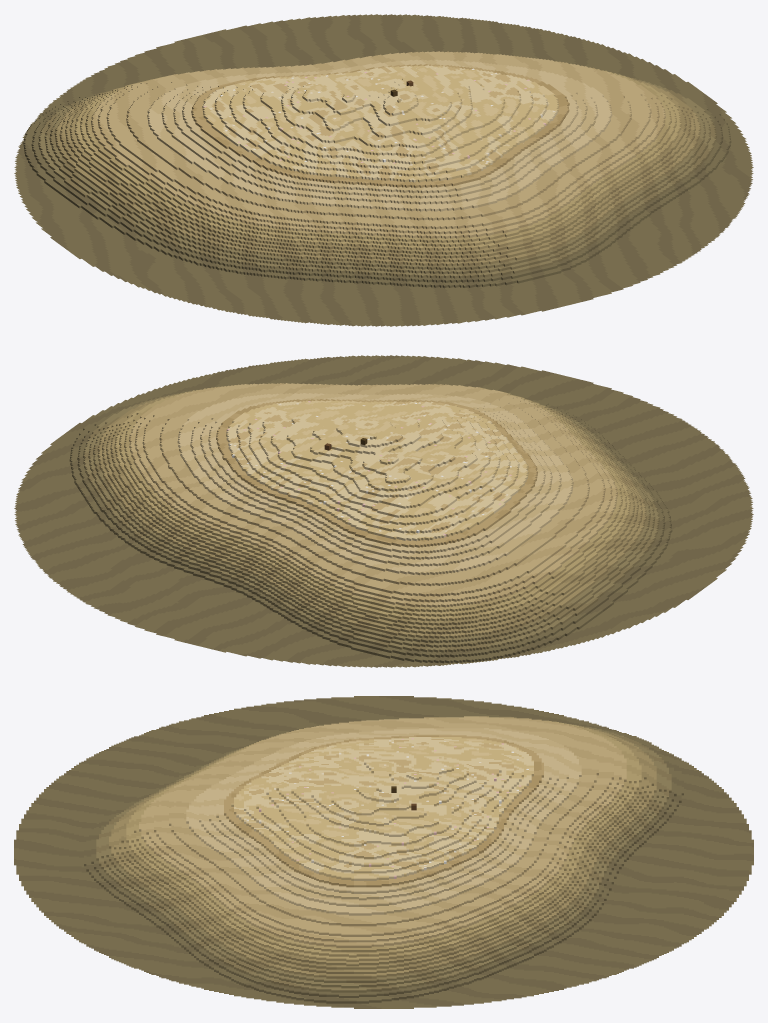
Rendered from island.gltf.
3 renders of one model, top to bottom at view 1: azimuth 30°, elevation 25°; view 2: azimuth 150°, elevation 25°; view 3: azimuth 270°, elevation 25°, orthographic.
Parts seen in each view (by area): view 1: island; view 2: island; view 3: island.
Boxes of the visible parts, x1=… form: island: x1=14, y1=14, x2=753, y2=326; island: x1=14, y1=355, x2=753, y2=667; island: x1=14, y1=696, x2=753, y2=1008.
Bounding box in the file's own units: 74 × 8 × 74.
